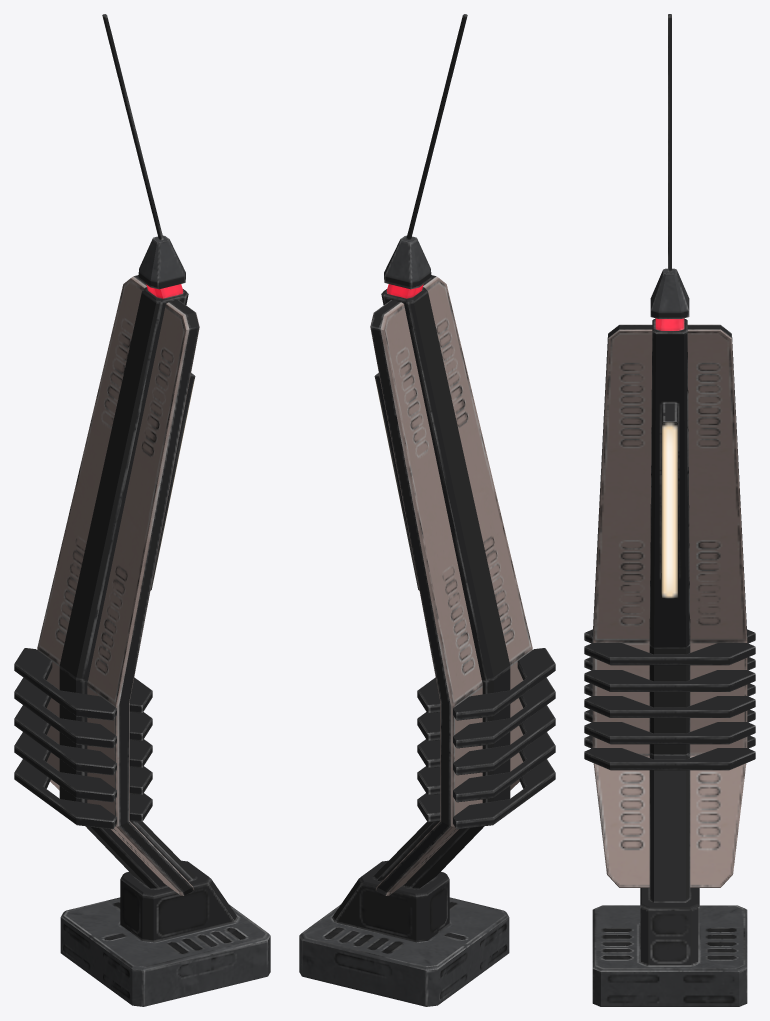
Rendered from H2_LightWall_1.fbx.
3 renders of one model, left to right at view 1: azimuth 30°, elevation 25°; view 2: azimuth 150°, elevation 25°; view 3: azimuth 270°, elevation 25°, orthographic. The views are drawn at different scales.
Visible parts, largest first — view 1: H2_LightWall_1; view 2: H2_LightWall_1; view 3: H2_LightWall_1.
Part boxes in pixels (x1,y1,x2,y2): H2_LightWall_1: (14, 14, 270, 1006); H2_LightWall_1: (299, 14, 555, 1006); H2_LightWall_1: (584, 14, 755, 1006).
Bounding box in the file's own units: 274 × 1328 × 222.
